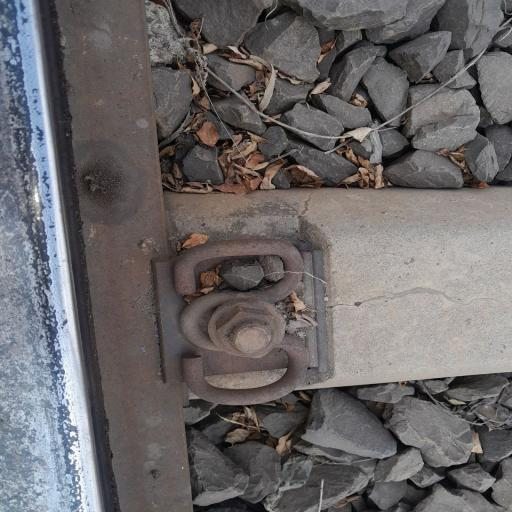bolt: (204, 292, 306, 385)
clip: (146, 212, 356, 419)
